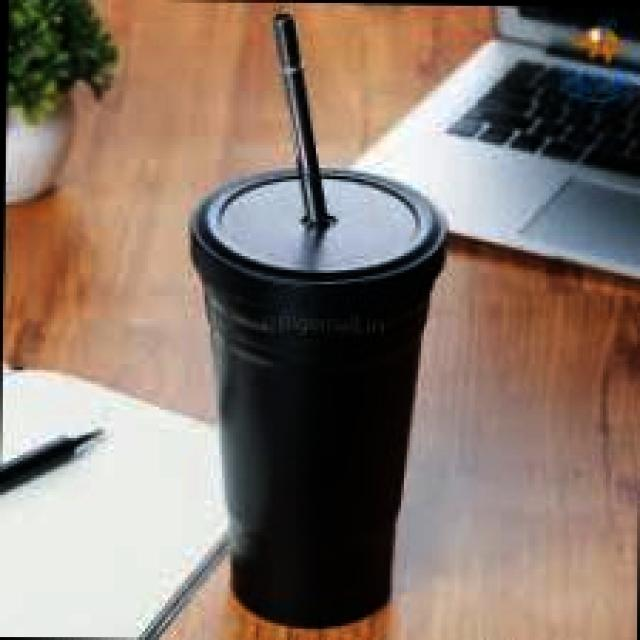bottle: (185, 13, 452, 627)
